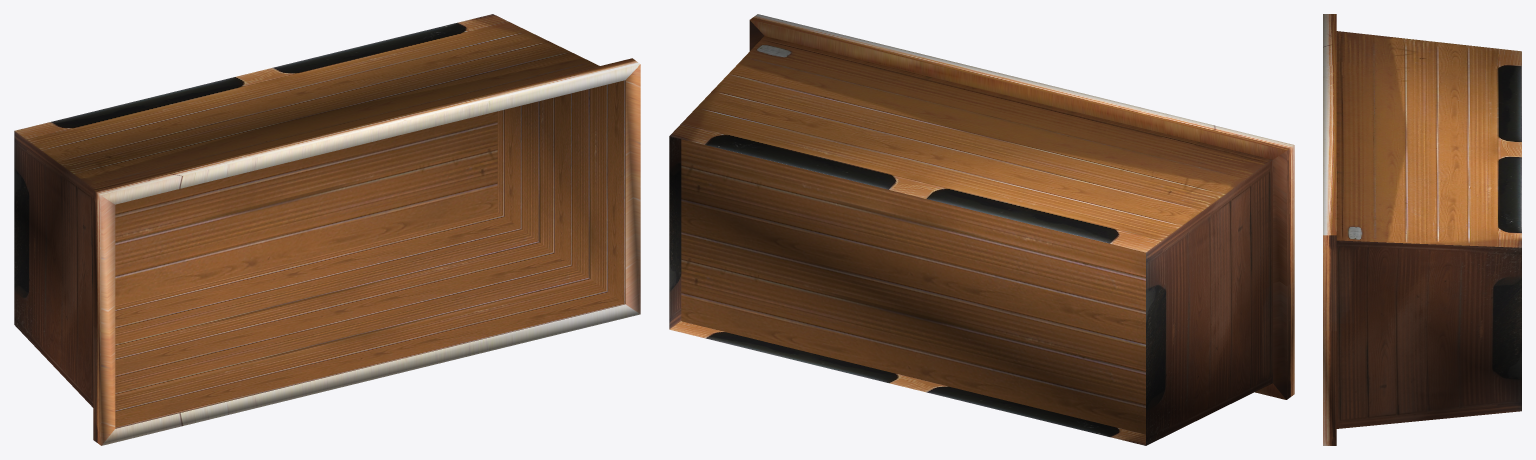
Rendered from RTE2901220812_0325L_01_normalization.obj.
3 renders of one model, left to right at view 1: azimuth 30°, elevation 25°; view 2: azimuth 150°, elevation 25°; view 3: azimuth 270°, elevation 25°, orthographic. The views are drawn at different scales.
Visible parts, largest first — view 1: 12_1; view 2: 12_1; view 3: 12_1.
Boxes of the visible parts, box(x1,y1,x2,y2) form: 12_1: box(14, 14, 640, 445); 12_1: box(669, 14, 1294, 445); 12_1: box(1323, 14, 1521, 445).
Bounding box in the file's own units: 0.8636 × 0.3829 × 0.3278.
Materials: 1 (1 with a texture image).
